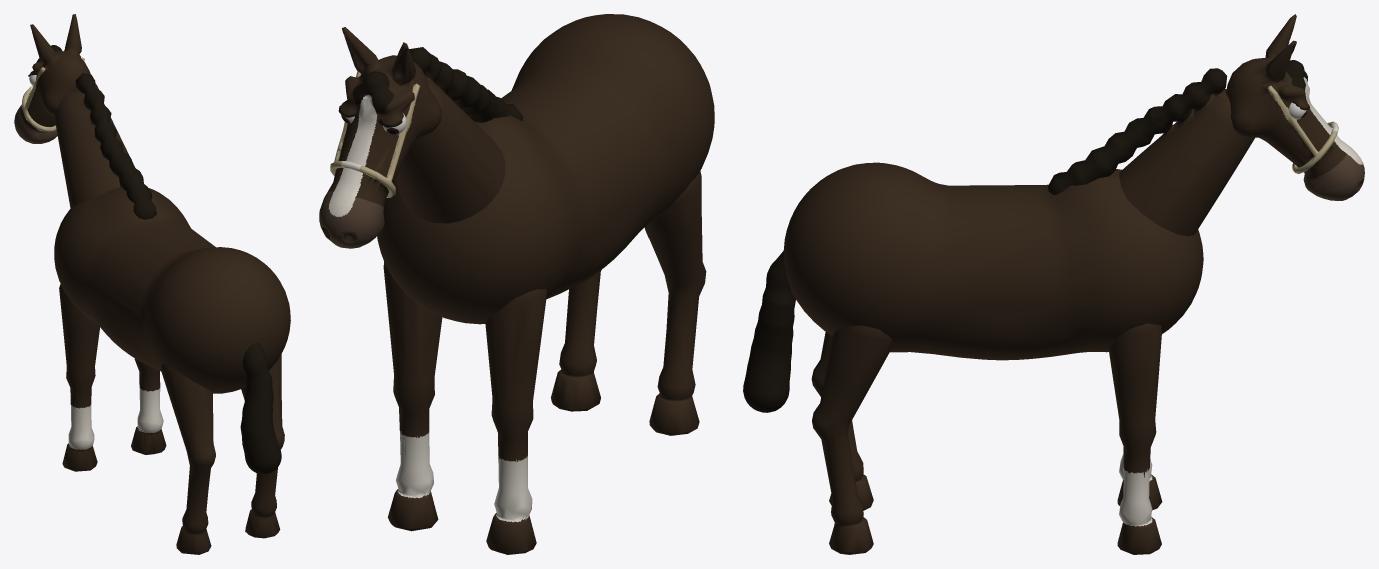
The model's file is horse-black.glb.
The picture shows the model from 3 angles, left to right: view 1: azimuth 30°, elevation 25°; view 2: azimuth 150°, elevation 25°; view 3: azimuth 270°, elevation 25°; orthographic projection. The views are drawn at different scales.
Visible parts, largest first — view 1: body_lod0, neck_lod0, leg_2_lod0, head_lod0, leg_0_lod0, tail_lod0, leg_3_lod0, leg_1_lod0; view 2: body_lod0, head_lod0, neck_lod0, leg_0_lod0, leg_1_lod0, leg_2_lod0, leg_3_lod0; view 3: body_lod0, neck_lod0, head_lod0, leg_3_lod0, leg_1_lod0, tail_lod0, leg_2_lod0.
Part boxes in pixels (x1=…): body_lod0: x1=54, y1=187, x2=290, y2=393; neck_lod0: x1=54, y1=73, x2=156, y2=219; leg_2_lod0: x1=161, y1=364, x2=215, y2=554; head_lod0: x1=14, y1=14, x2=98, y2=143; leg_0_lod0: x1=59, y1=284, x2=99, y2=471; tail_lod0: x1=240, y1=342, x2=281, y2=474; leg_3_lod0: x1=241, y1=354, x2=284, y2=538; leg_1_lod0: x1=131, y1=358, x2=166, y2=454; body_lod0: x1=377, y1=14, x2=714, y2=324; head_lod0: x1=319, y1=27, x2=441, y2=248; neck_lod0: x1=395, y1=47, x2=523, y2=223; leg_0_lod0: x1=485, y1=288, x2=547, y2=554; leg_1_lod0: x1=383, y1=262, x2=442, y2=531; leg_2_lod0: x1=644, y1=171, x2=706, y2=435; leg_3_lod0: x1=551, y1=270, x2=601, y2=411; body_lod0: x1=783, y1=162, x2=1203, y2=360; neck_lod0: x1=1048, y1=68, x2=1254, y2=236; head_lod0: x1=1226, y1=14, x2=1364, y2=200; leg_3_lod0: x1=812, y1=325, x2=892, y2=554; leg_1_lod0: x1=1108, y1=323, x2=1161, y2=554; tail_lod0: x1=743, y1=251, x2=795, y2=412; leg_2_lod0: x1=811, y1=332, x2=873, y2=510.
Size of what is drawn, in the model's own units: 0.9409 by 2.84 by 3.21.
